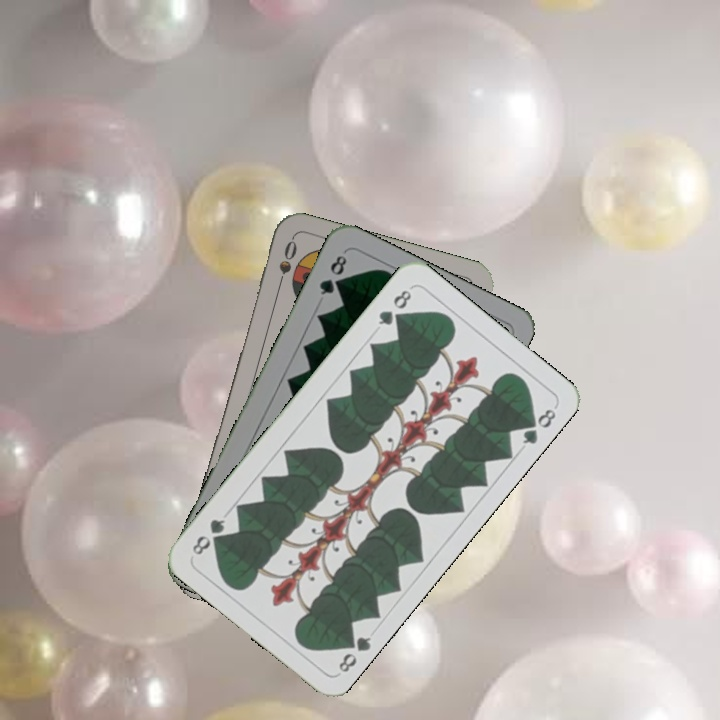G8: (334, 629, 374, 675), (374, 285, 415, 328), (315, 250, 350, 298)
SO: (273, 236, 300, 294)
